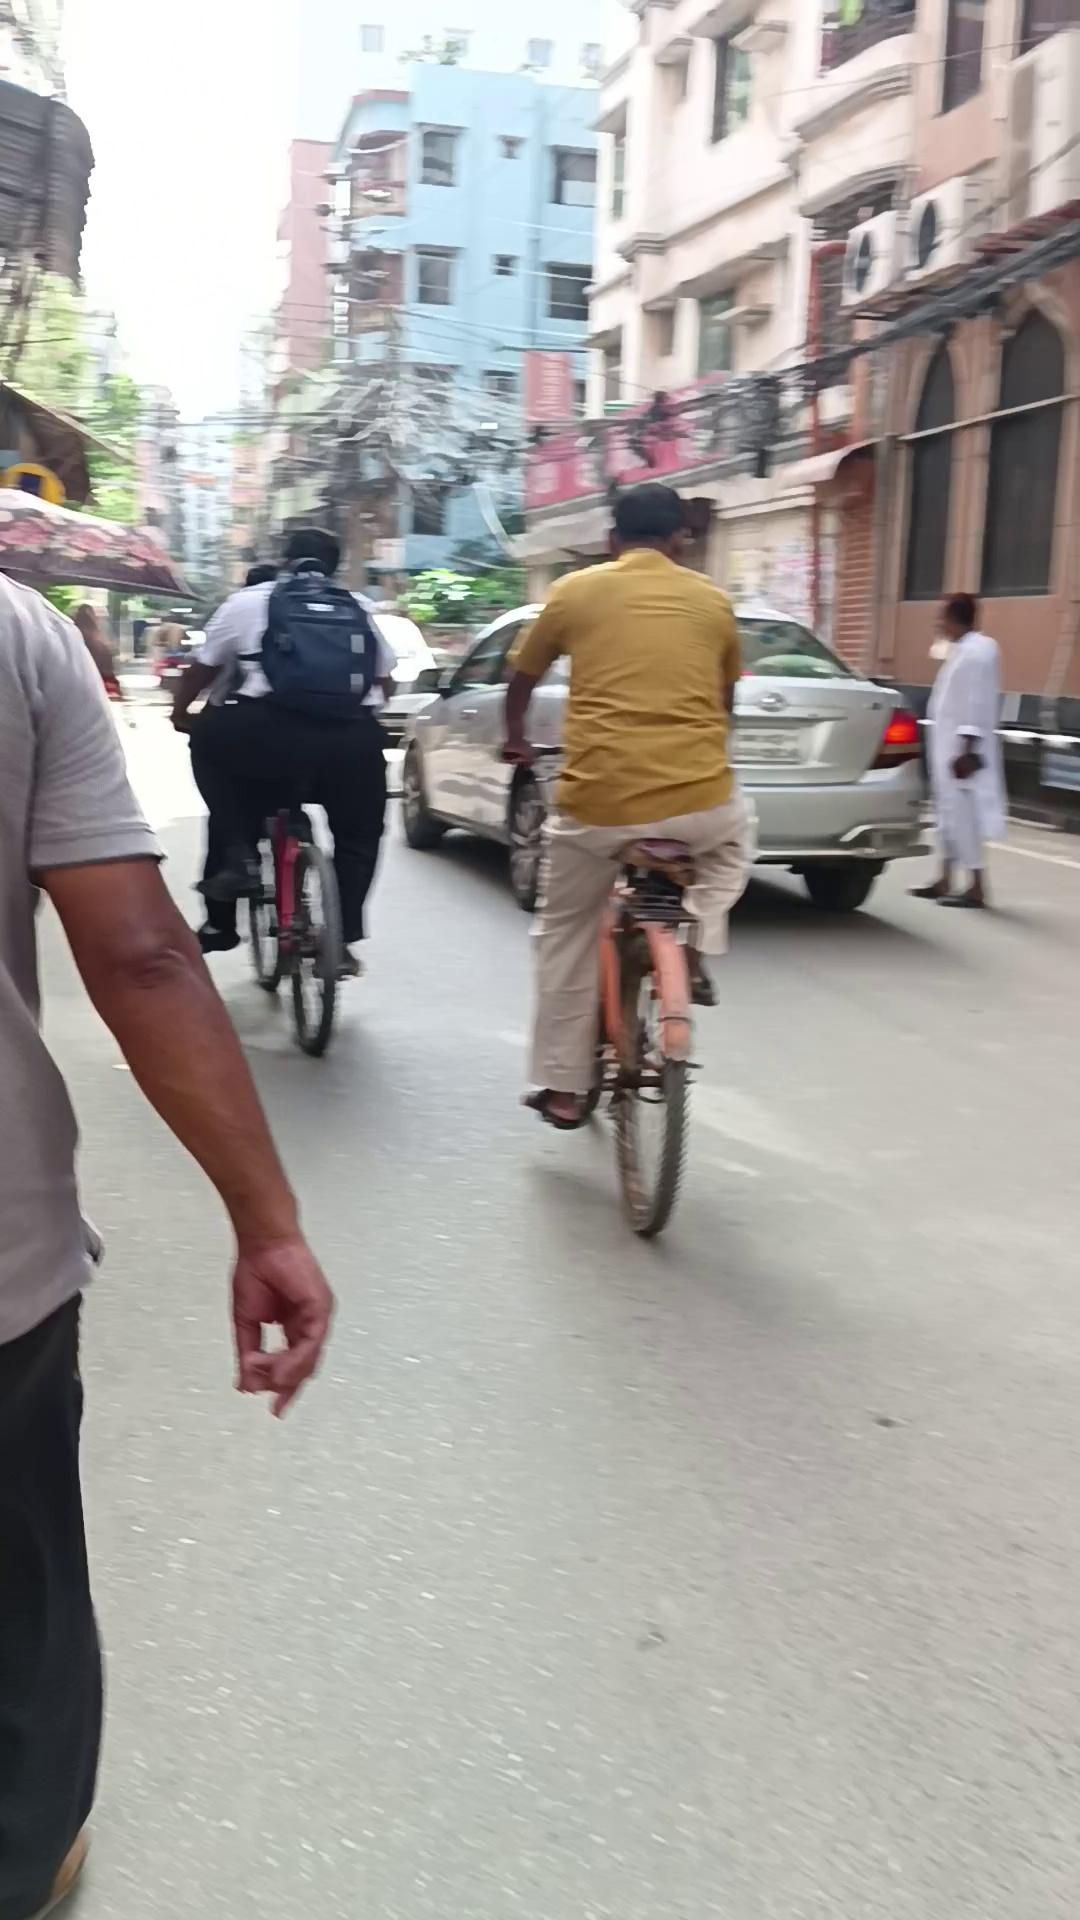Car: (398, 600, 932, 913)
Light-pole: (497, 740, 728, 1240)
Muddy road: (0, 568, 336, 1917), (498, 479, 756, 1130), (169, 524, 398, 976), (905, 591, 1007, 909), (69, 603, 123, 699)
